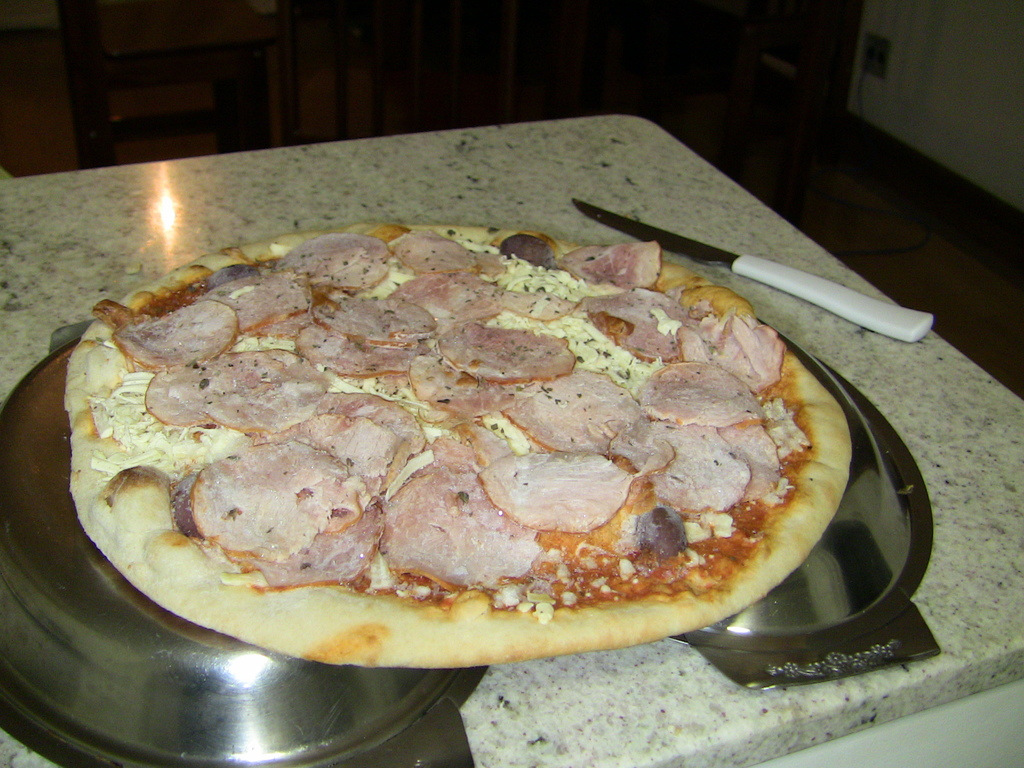pizza: (66, 222, 852, 673)
